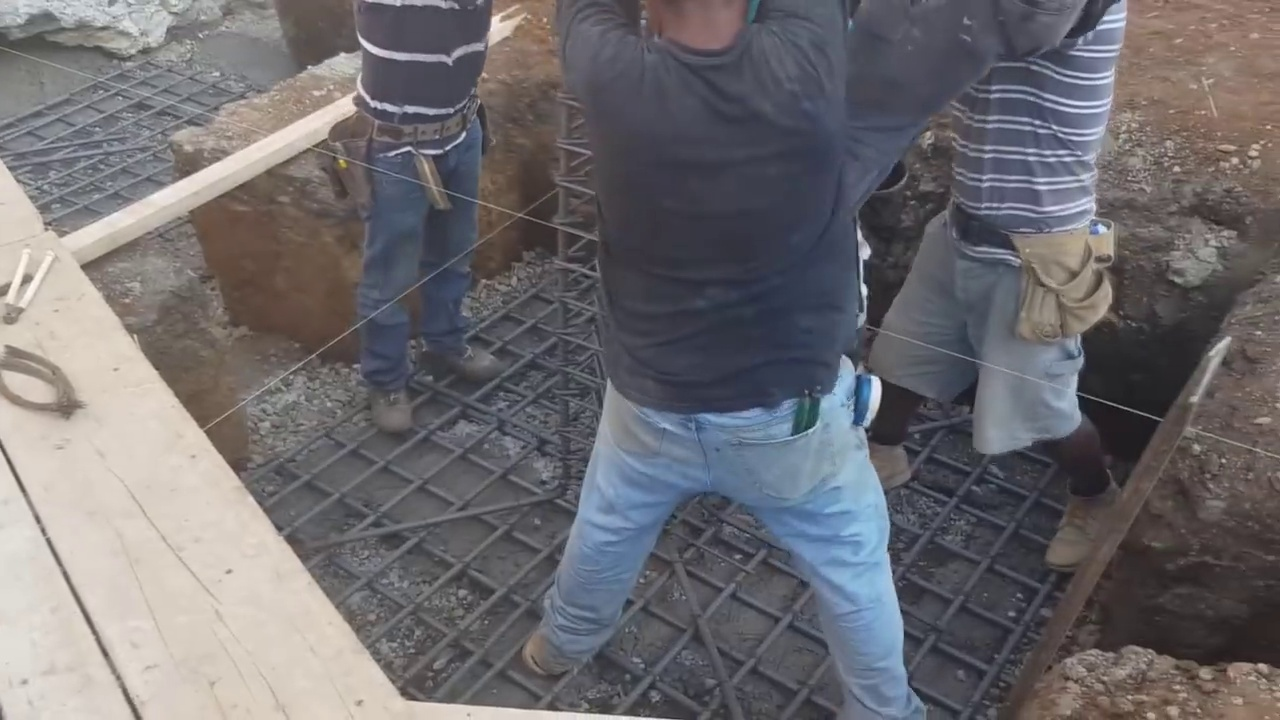person: (540, 0, 1014, 720), (876, 0, 1129, 566), (316, 0, 502, 427)
